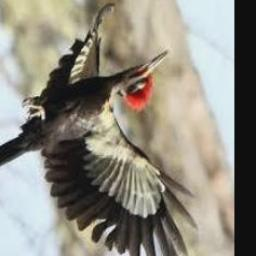Woodpecker: (0, 5, 198, 256)
